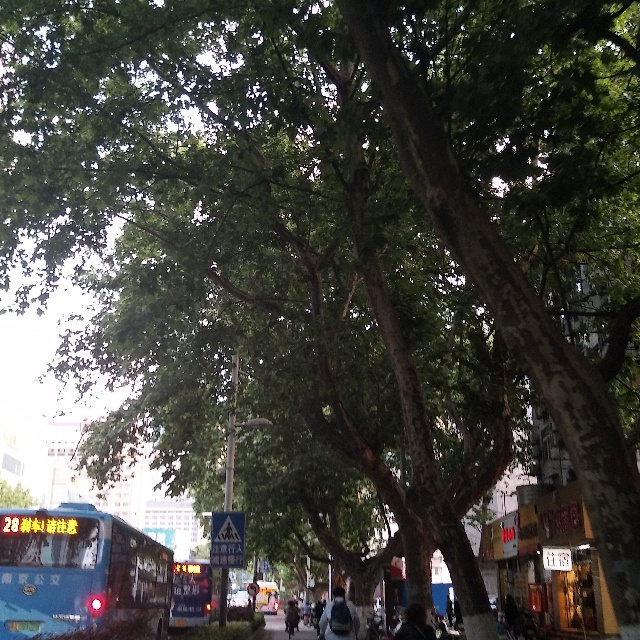crosswalk: (214, 515, 245, 544)
